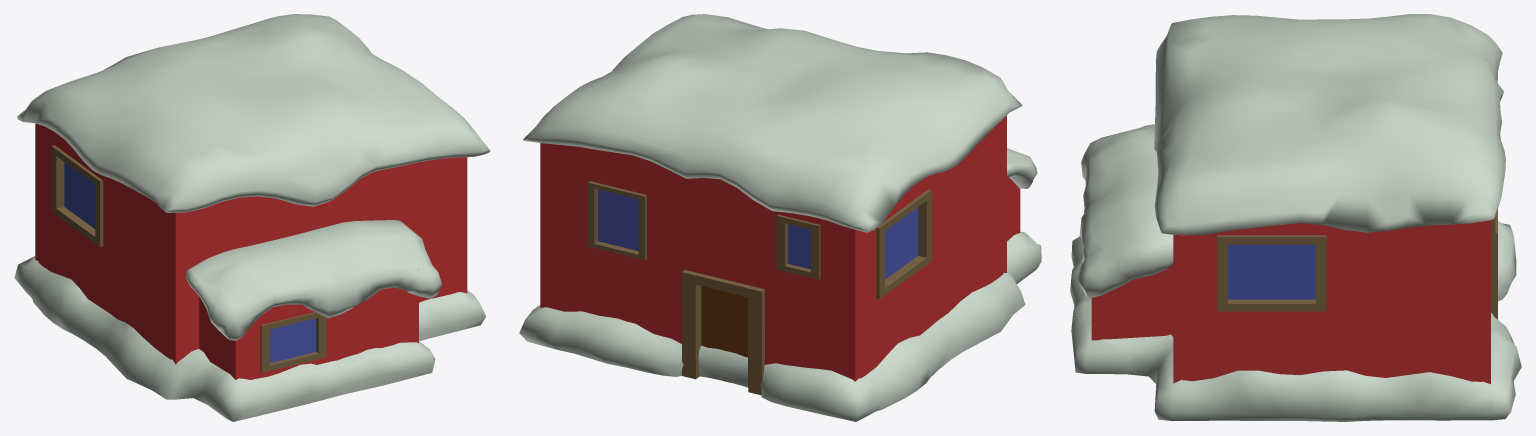
File: HomeSnow-1.fbx
3 renders of one model, left to right at view 1: azimuth 30°, elevation 25°; view 2: azimuth 150°, elevation 25°; view 3: azimuth 270°, elevation 25°, orthographic. The views are drawn at different scales.
Parts seen in each view (by area): view 1: HomeSnow-1; view 2: HomeSnow-1; view 3: HomeSnow-1.
Boxes of the visible parts, x1,y1,x2,y2 form: HomeSnow-1: (14,14,490,421); HomeSnow-1: (519,14,1041,421); HomeSnow-1: (1070,14,1521,421).
Size of the model in its own units: 20.49 by 13.95 by 20.99.
